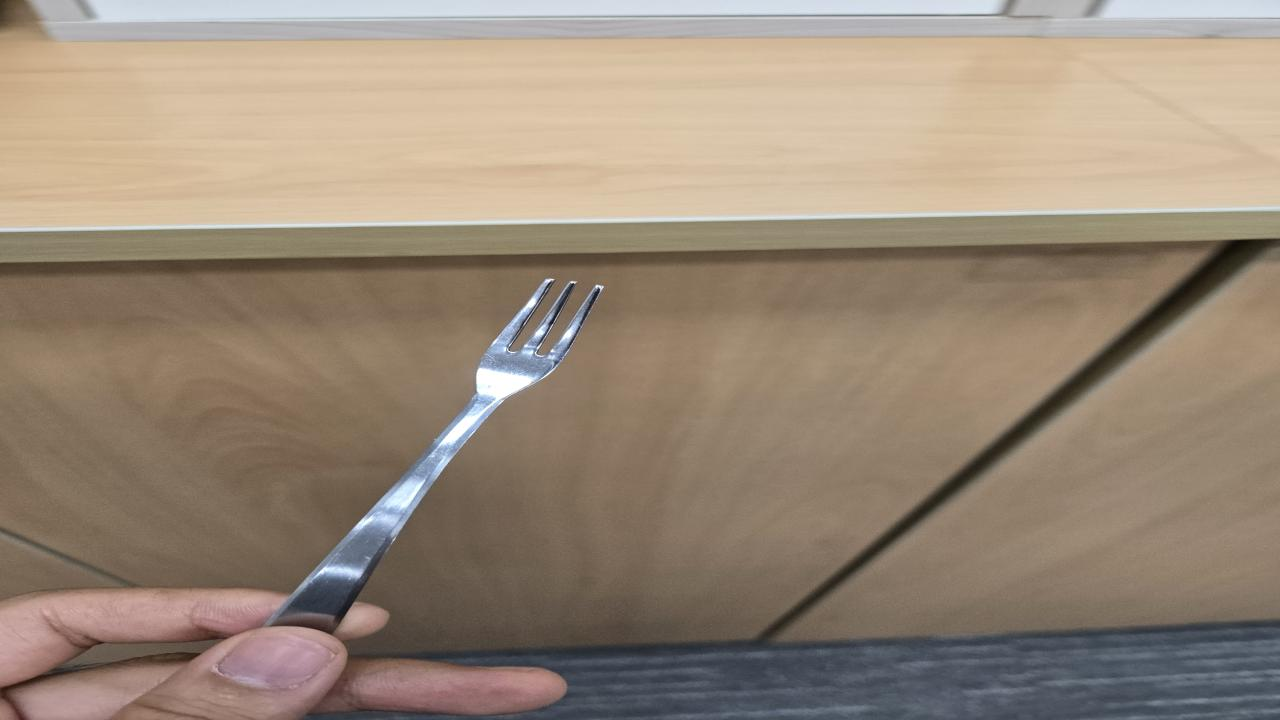fork: (266, 276, 613, 633)
